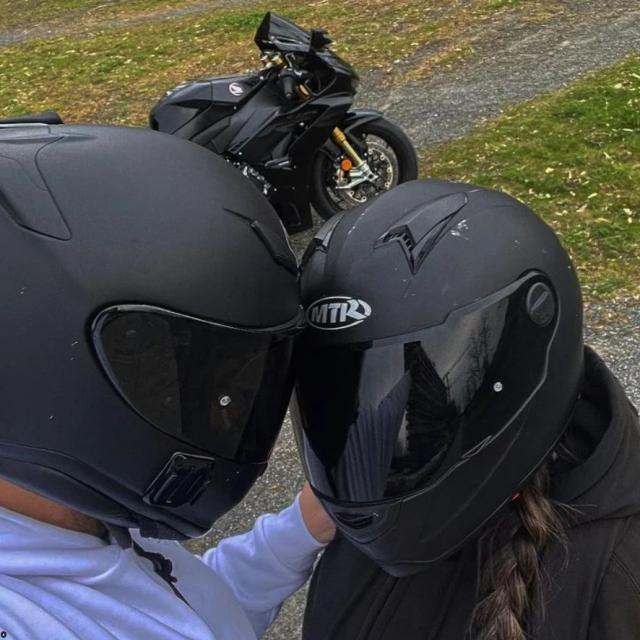helmet: (0, 114, 308, 544), (285, 171, 590, 581)
